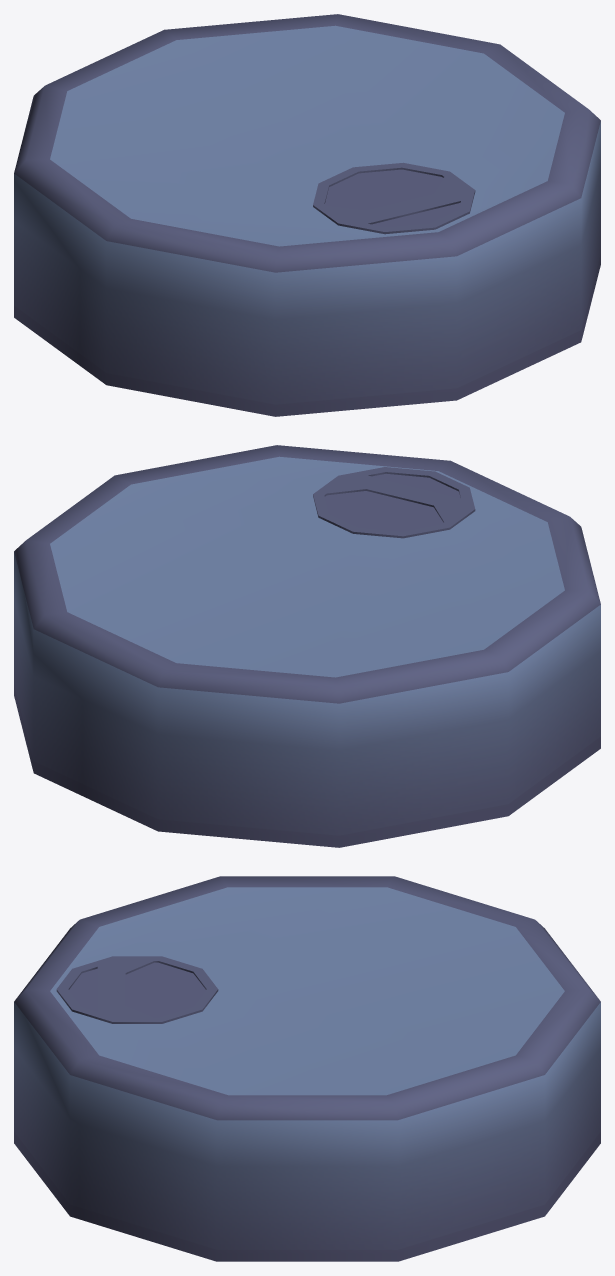
Rendered from can_food_small_blue.fbx.
3 renders of one model, top to bottom at view 1: azimuth 30°, elevation 25°; view 2: azimuth 150°, elevation 25°; view 3: azimuth 270°, elevation 25°, orthographic.
Visible parts, largest first — view 1: can_food_small_blue; view 2: can_food_small_blue; view 3: can_food_small_blue.
Part boxes in pixels (left/top/right/bottom): can_food_small_blue: left=14, top=14, right=600, bottom=416; can_food_small_blue: left=14, top=445, right=600, bottom=847; can_food_small_blue: left=14, top=876, right=600, bottom=1261.
Size of the model in its own units: 104 by 31.53 by 109.
